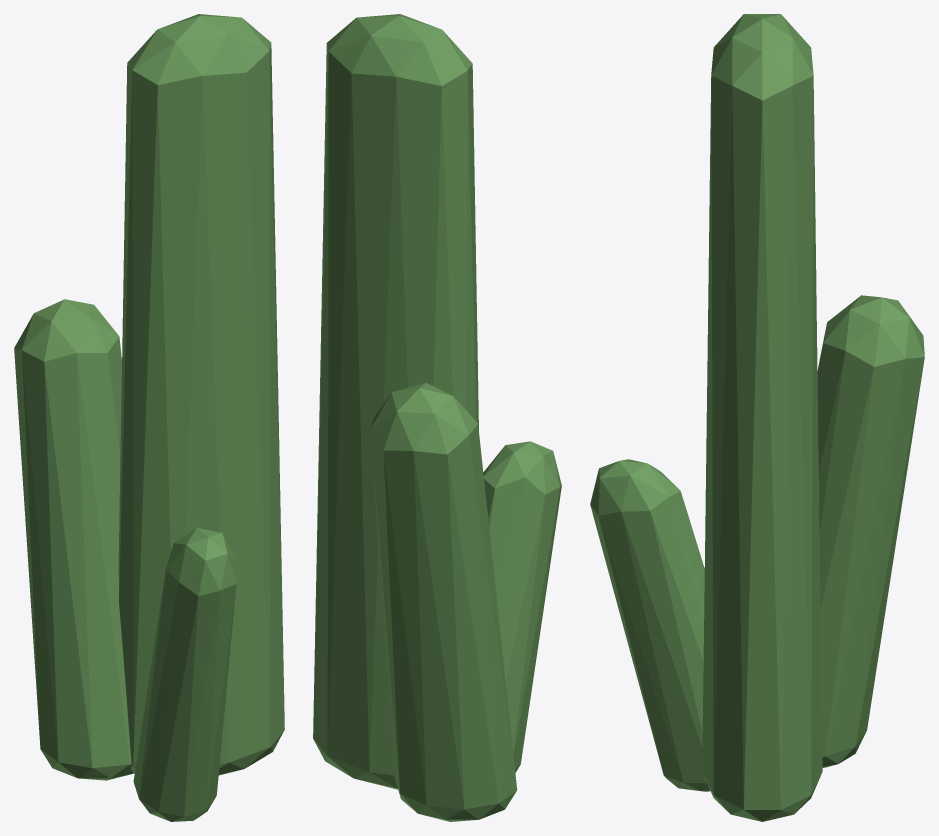
Rendered from Cactus_V03.fbx.
3 views of the same model, side by side, from view 1: azimuth 30°, elevation 25°; view 2: azimuth 150°, elevation 25°; view 3: azimuth 270°, elevation 25° (orthographic). The views are drawn at different scales.
Visible parts, largest first — view 1: Cactus_V03; view 2: Cactus_V03; view 3: Cactus_V03.
Part boxes in pixels (x1,y1,x2,y2): Cactus_V03: [14, 14, 284, 821]; Cactus_V03: [313, 14, 561, 821]; Cactus_V03: [590, 14, 924, 821].
Size of the model in its own units: 45.66 by 162 by 62.2.
